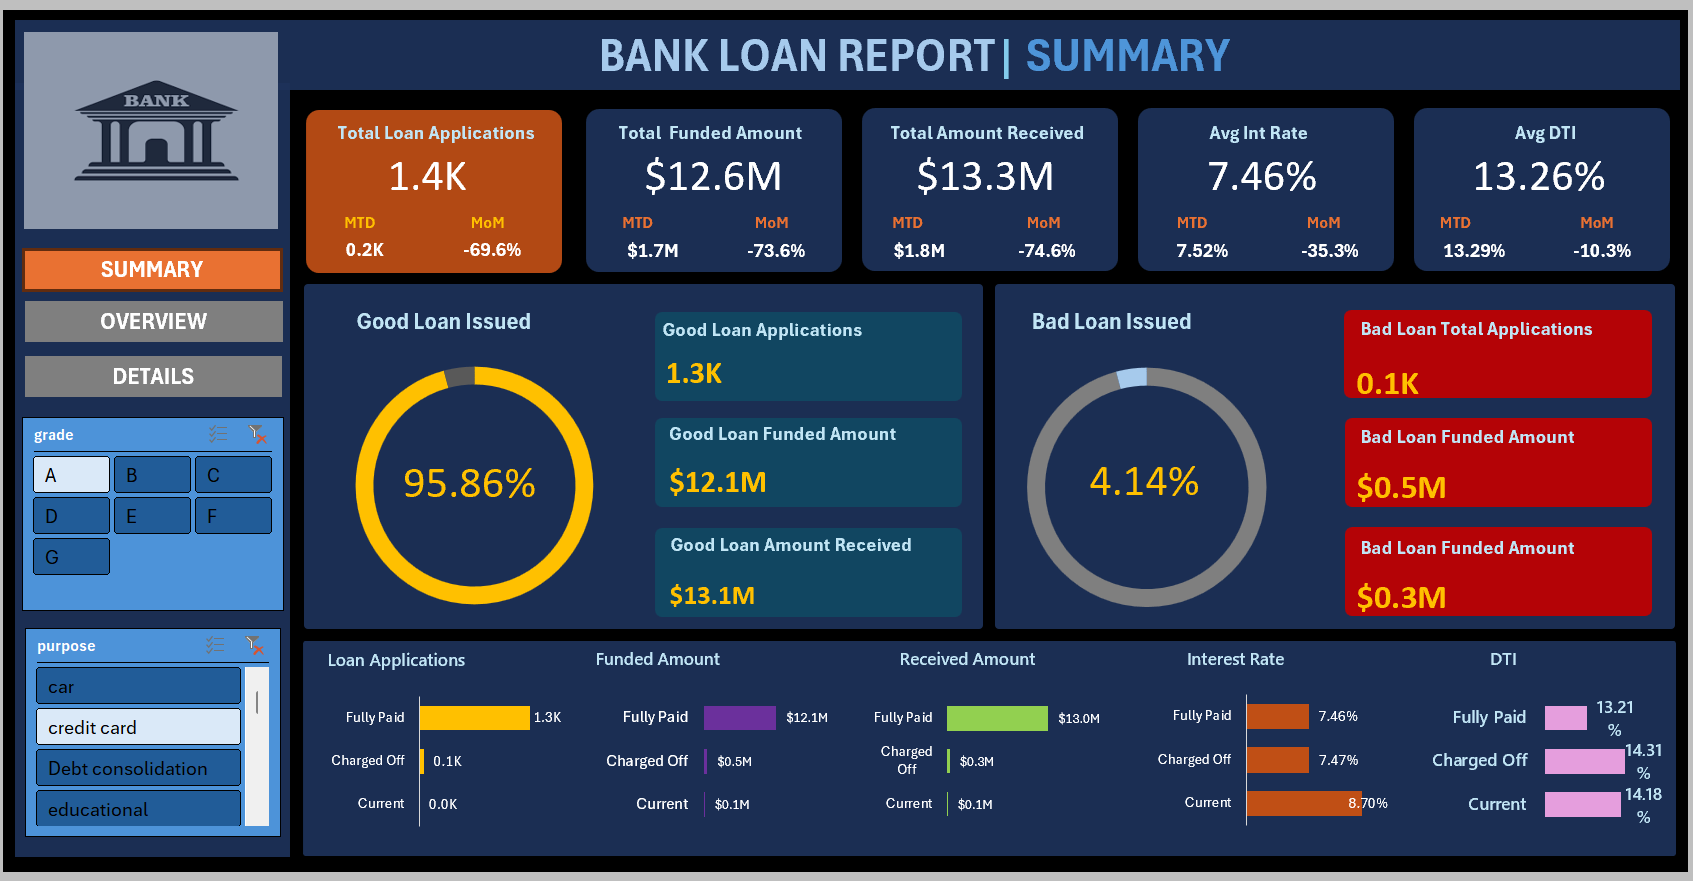

The dashboard page shown, as its layout file describes it:
{"tool":"powerbi","page":{"name":"Summary","canvas":[1280,720],"ordinal":0},"visuals":[{"type":"shape","box":[0,0,1279.6,54.6],"z":0},{"type":"shape","box":[420.1,64.3,195.1,117.3],"z":0,"group":"g2"},{"type":"shape","box":[636.6,64.3,195.1,117.3],"z":0,"group":"g1"},{"type":"shape","box":[851.6,64.3,195.1,117.3],"z":0,"group":"g6"},{"type":"shape","box":[1068.1,64.3,195.1,117.3],"z":0,"group":"g7"},{"type":"shape","box":[204.7,64.8,195.1,117.3],"z":0,"group":"g3"},{"type":"shape","box":[0,54,192.5,665.7],"z":1000},{"type":"card","fields":{"Values":["financial_loan.Total Funded Amount"]},"box":[420.4,86.7,195.1,47.5],"z":1000,"group":"g2"},{"type":"card","fields":{"Values":["financial_loan.Total Amount Received"]},"box":[636.6,86.7,195.1,47.5],"z":1000,"group":"g1"},{"type":"card","fields":{"Values":["financial_loan.Avg Interest Rate"]},"box":[851.6,86.7,195.1,47.5],"z":1000,"group":"g6"},{"type":"card","fields":{"Values":["financial_loan.Avg DTI"]},"box":[1068.1,86.7,195.1,47.5],"z":1000,"group":"g7"},{"type":"card","fields":{"Values":["financial_loan.Total Loan Applications"]},"box":[204.7,87.2,195.1,47.5],"z":1000,"group":"g3"},{"type":"textbox","box":[420.4,64.3,195.1,46.1],"z":2000,"group":"g2"},{"type":"textbox","box":[636.6,64.3,195.1,46.1],"z":2000,"group":"g1"},{"type":"textbox","box":[851.6,64.3,195.1,46.1],"z":2000,"group":"g6"},{"type":"textbox","box":[1068.1,64.3,195.1,46.1],"z":2000,"group":"g7"},{"type":"textbox","box":[204.7,64.8,195.1,46.1],"z":2000,"group":"g3"},{"type":"shape","box":[204.2,193.8,522.9,260.2],"z":2000},{"type":"card","title":"MTD","fields":{"Values":["financial_loan.MTD Funded Amount"]},"box":[420.4,134.2,52.7,47.5],"z":3000,"group":"g2"},{"type":"card","title":"MTD","fields":{"Values":["financial_loan.MTD Total Amount Received"]},"box":[636.6,134.2,52.7,47.5],"z":3000,"group":"g1"},{"type":"card","title":"MTD","fields":{"Values":["financial_loan.MTD Average Int Rate"]},"box":[851.6,134.2,52.7,47.5],"z":3000,"group":"g6"},{"type":"card","title":"MTD","fields":{"Values":["financial_loan.MTD Average DTI"]},"box":[1068.1,134.2,52.7,47.5],"z":3000,"group":"g7"},{"type":"card","title":"MTD","fields":{"Values":["financial_loan.MTD Loan Applications"]},"box":[204.7,134.7,52.7,47.5],"z":3000,"group":"g3"},{"type":"card","fields":{"Values":["financial_loan.Good loan %"]},"box":[236.7,312.7,195.8,46.8],"z":3000},{"type":"card","title":"MOM","fields":{"Values":["financial_loan.MOM Total Funded Amount"]},"box":[550.9,134.2,52.7,47.5],"z":4000,"group":"g2"},{"type":"card","title":"MOM","fields":{"Values":["financial_loan.MOM Total Amount Recieved"]},"box":[767.1,134.2,52.7,47.5],"z":4000,"group":"g1"},{"type":"card","title":"MOM","fields":{"Values":["financial_loan.MOM Average Int Rate"]},"box":[982.1,134.2,52.7,47.5],"z":4000,"group":"g6"},{"type":"card","title":"MOM","fields":{"Values":["financial_loan.MOM Average dti"]},"box":[1198.6,134.2,52.7,47.5],"z":4000,"group":"g7"},{"type":"card","title":"MOM","fields":{"Values":["financial_loan.MOM Loan Application"]},"box":[335.2,134.7,52.7,47.5],"z":4000,"group":"g3"},{"type":"textbox","box":[238.2,200.9,196.1,47],"z":4000},{"type":"textbox","box":[416.3,0,448.2,76.2],"z":5000},{"type":"group","id":"g1","title":"Group 3","box":[636.6,64.3,195.1,117.3],"z":5001,"group":"g5"},{"type":"group","id":"g2","title":"Group 2","box":[420.1,64.3,195.4,117.3],"z":5005,"group":"g4"},{"type":"group","id":"g3","title":"Group 1","box":[204.7,64.8,194.5,117.2],"z":6000},{"type":"group","id":"g4","title":"Group 1","box":[420.1,64.3,195.8,116.9],"z":7000},{"type":"group","id":"g5","title":"Group 2","box":[636.6,64.3,194.3,116.9],"z":8000},{"type":"group","id":"g6","title":"Group 3","box":[851.6,64.3,195.8,116.9],"z":9000},{"type":"group","id":"g7","title":"Group 3","box":[1068.1,64.3,194.3,118.4],"z":10000},{"type":"shape","box":[738.9,193.8,522.9,260.2],"z":11000},{"type":"donutChart","fields":{"Category":["financial_loan.Good loan VS Bad loan"],"Y":["financial_loan.Total Loan Applications"]},"box":[203.6,225.2,249.8,229.8],"z":12000},{"type":"cardVisual","fields":{"Data":["financial_loan.Good Loan Application","financial_loan.Good Loan Funded Amount","financial_loan.Good Loan Received"]},"box":[447.2,192.8,279.1,260.6],"z":13000},{"type":"donutChart","fields":{"Category":["financial_loan.Good loan VS Bad loan"],"Y":["financial_loan.Total Loan Applications"]},"box":[738.7,225.2,249.8,229.8],"z":14000},{"type":"textbox","box":[764.9,200.5,195.9,46.3],"z":15000},{"type":"card","fields":{"Values":["financial_loan.Bad loan %"]},"box":[764.9,311.5,195.9,47.8],"z":16000},{"type":"cardVisual","fields":{"Data":["financial_loan.Bad Loan Application","financial_loan.Bad Loan Funded Amount","financial_loan.Bad Loan Received"]},"box":[980.8,192.8,279.1,260.6],"z":17000},{"type":"shape","box":[204.7,464.1,1057.8,241.1],"z":18000},{"type":"tableEx","fields":{"Values":["financial_loan.loan_status","financial_loan.Total Loan Applications","financial_loan.Total Funded Amount","financial_loan.Total Amount Received","financial_loan.Avg Interest Rate","financial_loan.Avg DTI"]},"box":[220.5,516.6,1042.5,188.1],"z":19000},{"type":"textbox","box":[229.8,470.4,195.9,46.3],"z":20000},{"type":"slicer","fields":{"Values":["financial_loan.address_state"]},"box":[4.6,470.4,174.3,46.3],"z":21000},{"type":"textbox","box":[4.6,434.9,91,29.3],"z":22000},{"type":"slicer","fields":{"Values":["financial_loan.grade"]},"box":[4.6,561.3,174.3,46.3],"z":23000},{"type":"slicer","fields":{"Values":["financial_loan.purpose"]},"box":[4.6,658.5,174.3,46.3],"z":24000},{"type":"textbox","box":[4.6,532,91,29.3],"z":25000},{"type":"textbox","box":[4.6,629.2,91,29.3],"z":26000},{"type":"pageNavigator","box":[9.1,224.1,174,153.6],"z":27000},{"type":"image","box":[10.2,38.7,172.9,172.9],"z":28000}]}

Visuals, with their boxes on the page's 1280x720 design canvas (x1, y1, x2, y2). These are canvas units, not pixel positions in the 1693x881 screenshot, which may show the page scaled, cropped or inside an application window:
shape: (0, 0, 1280, 55)
shape: (420, 64, 615, 182)
shape: (637, 64, 832, 182)
shape: (852, 64, 1047, 182)
shape: (1068, 64, 1263, 182)
shape: (205, 65, 400, 182)
shape: (0, 54, 192, 720)
card - financial_loan.Total Funded Amount: (420, 87, 616, 134)
card - financial_loan.Total Amount Received: (637, 87, 832, 134)
card - financial_loan.Avg Interest Rate: (852, 87, 1047, 134)
card - financial_loan.Avg DTI: (1068, 87, 1263, 134)
card - financial_loan.Total Loan Applications: (205, 87, 400, 135)
textbox: (420, 64, 616, 110)
textbox: (637, 64, 832, 110)
textbox: (852, 64, 1047, 110)
textbox: (1068, 64, 1263, 110)
textbox: (205, 65, 400, 111)
shape: (204, 194, 727, 454)
"MTD" card: (420, 134, 473, 182)
"MTD" card: (637, 134, 689, 182)
"MTD" card: (852, 134, 904, 182)
"MTD" card: (1068, 134, 1121, 182)
"MTD" card: (205, 135, 257, 182)
card - financial_loan.Good loan %: (237, 313, 432, 360)
"MOM" card: (551, 134, 604, 182)
"MOM" card: (767, 134, 820, 182)
"MOM" card: (982, 134, 1035, 182)
"MOM" card: (1199, 134, 1251, 182)
"MOM" card: (335, 135, 388, 182)
textbox: (238, 201, 434, 248)
textbox: (416, 0, 864, 76)
"Group 3" group: (637, 64, 832, 182)
"Group 2" group: (420, 64, 616, 182)
"Group 1" group: (205, 65, 399, 182)
"Group 1" group: (420, 64, 616, 181)
"Group 2" group: (637, 64, 831, 181)
"Group 3" group: (852, 64, 1047, 181)
"Group 3" group: (1068, 64, 1262, 183)
shape: (739, 194, 1262, 454)
donutChart - financial_loan.Good loan VS Bad loan x financial_loan.Total Loan Applications: (204, 225, 453, 455)
cardVisual - financial_loan.Good Loan Application x financial_loan.Good Loan Funded Amount: (447, 193, 726, 453)
donutChart - financial_loan.Good loan VS Bad loan x financial_loan.Total Loan Applications: (739, 225, 988, 455)
textbox: (765, 200, 961, 247)
card - financial_loan.Bad loan %: (765, 312, 961, 359)
cardVisual - financial_loan.Bad Loan Application x financial_loan.Bad Loan Funded Amount: (981, 193, 1260, 453)
shape: (205, 464, 1262, 705)
tableEx - financial_loan.loan_status x financial_loan.Total Loan Applications: (220, 517, 1263, 705)
textbox: (230, 470, 426, 517)
slicer - financial_loan.address_state: (5, 470, 179, 517)
textbox: (5, 435, 96, 464)
slicer - financial_loan.grade: (5, 561, 179, 608)
slicer - financial_loan.purpose: (5, 658, 179, 705)
textbox: (5, 532, 96, 561)
textbox: (5, 629, 96, 658)
pageNavigator: (9, 224, 183, 378)
image: (10, 39, 183, 212)
